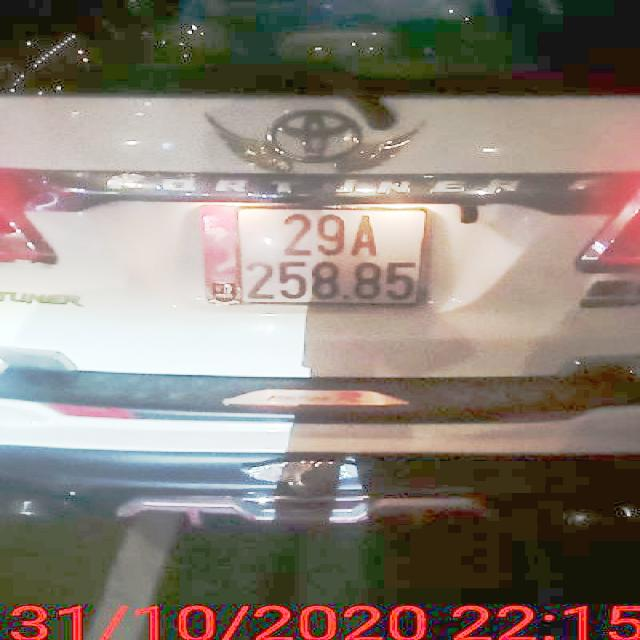license_plate: (205, 209, 430, 307)
